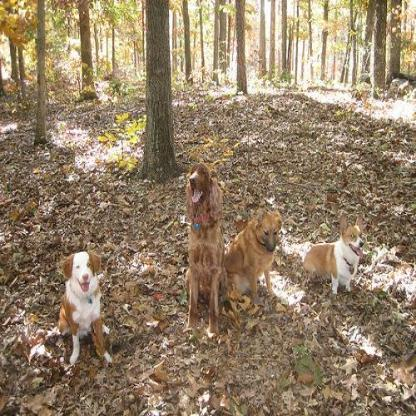Irish_setter: (178, 160, 226, 326)
